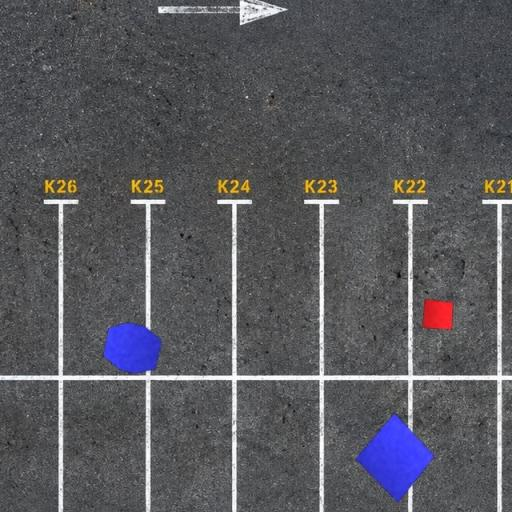BLUE_SQUARE: (355, 412, 435, 504)
RED_SQUARE: (422, 298, 454, 330)
